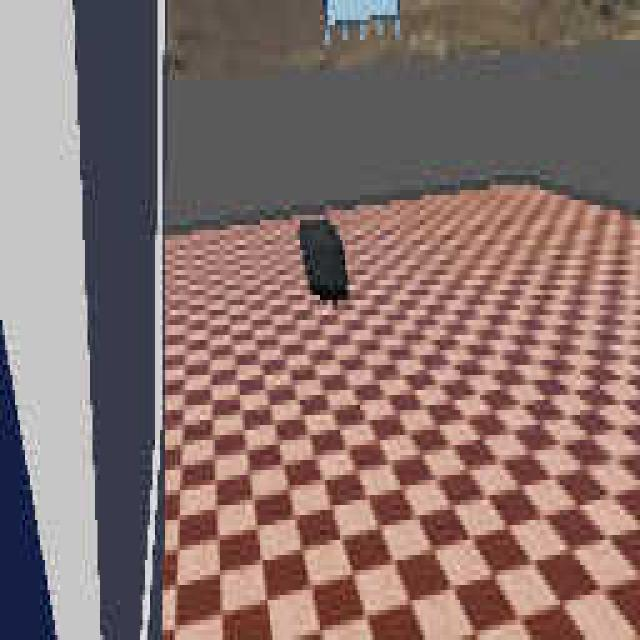rock: (300, 216, 350, 305)
